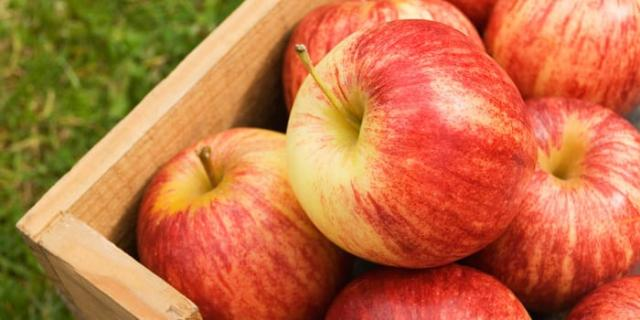red apple: (284, 19, 539, 267), (136, 127, 347, 319), (453, 96, 640, 309), (483, 2, 640, 119), (327, 266, 532, 320)
